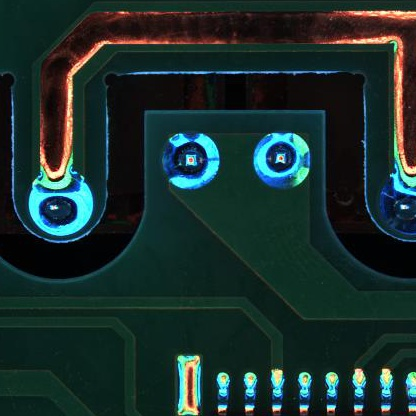spot: (26, 172, 96, 236), (155, 128, 222, 193), (251, 130, 314, 190)
